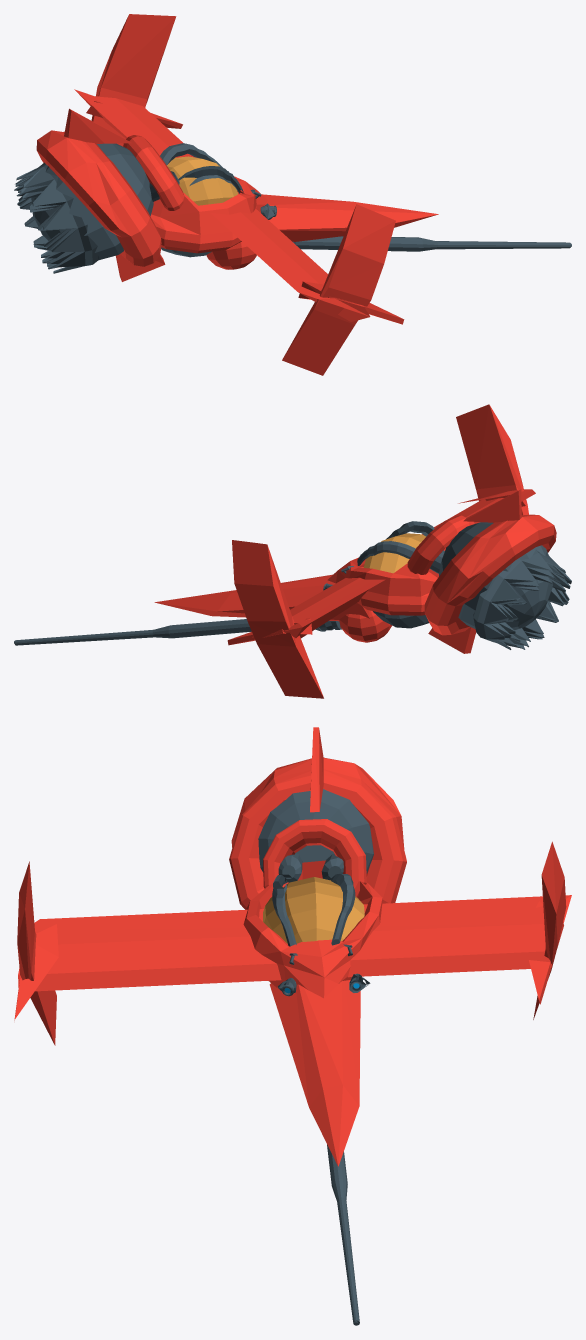
File: scene_R3KcuRJk5m.glb
3 renders of one model, top to bottom at view 1: azimuth 30°, elevation 25°; view 2: azimuth 150°, elevation 25°; view 3: azimuth 270°, elevation 25°, orthographic. The views are drawn at different scales.
Parts seen in each view (by area): view 1: group1747997937, group1917313512, group424858425, group1808199258, group1822371915, group1482075142, group285800047, group839288052, group1072256799, group1113187668, group1720015577, group1991174409; view 2: group1747997937, group424858425, group1917313512, group1808199258, group1482075142, group1822371915, group285800047, group839288052, group1072256799, group1991174409, group1720015577, group1113187668; view 3: group1747997937, group1917313512, group424858425, group285800047, group1822371915, group839288052, group1482075142, group1072256799, group1991174409, group1113187668.
Boxes of the visible parts, bbox=[...] form: group1747997937: bbox=[74, 14, 404, 375]; group1917313512: bbox=[150, 156, 438, 253]; group424858425: bbox=[36, 130, 161, 266]; group1808199258: bbox=[14, 164, 98, 273]; group1822371915: bbox=[31, 143, 153, 259]; group1482075142: bbox=[206, 236, 571, 269]; group285800047: bbox=[161, 156, 237, 257]; group839288052: bbox=[123, 135, 184, 210]; group1072256799: bbox=[64, 108, 131, 143]; group1113187668: bbox=[178, 166, 243, 193]; group1720015577: bbox=[116, 254, 165, 281]; group1991174409: bbox=[160, 143, 222, 167]; group1747997937: bbox=[227, 404, 535, 698]; group424858425: bbox=[424, 514, 556, 635]; group1917313512: bbox=[154, 548, 445, 621]; group1808199258: bbox=[473, 550, 571, 649]; group1482075142: bbox=[14, 610, 392, 645]; group1822371915: bbox=[439, 522, 552, 630]; group285800047: bbox=[363, 533, 428, 628]; group839288052: bbox=[407, 515, 474, 574]; group1072256799: bbox=[463, 489, 521, 522]; group1991174409: bbox=[357, 541, 415, 565]; group1720015577: bbox=[428, 627, 476, 653]; group1113187668: bbox=[386, 521, 434, 539]; group1747997937: bbox=[14, 841, 571, 1045]; group1917313512: bbox=[243, 860, 383, 1166]; group424858425: bbox=[229, 757, 406, 909]; group285800047: bbox=[263, 877, 364, 943]; group1822371915: bbox=[258, 789, 373, 873]; group839288052: bbox=[263, 819, 366, 897]; group1482075142: bbox=[327, 1144, 359, 1325]; group1072256799: bbox=[310, 727, 323, 812]; group1991174409: bbox=[330, 873, 355, 945]; group1113187668: bbox=[272, 874, 296, 946].
Bounding box in the file's own units: 6.72 × 3.17 × 5.11.
